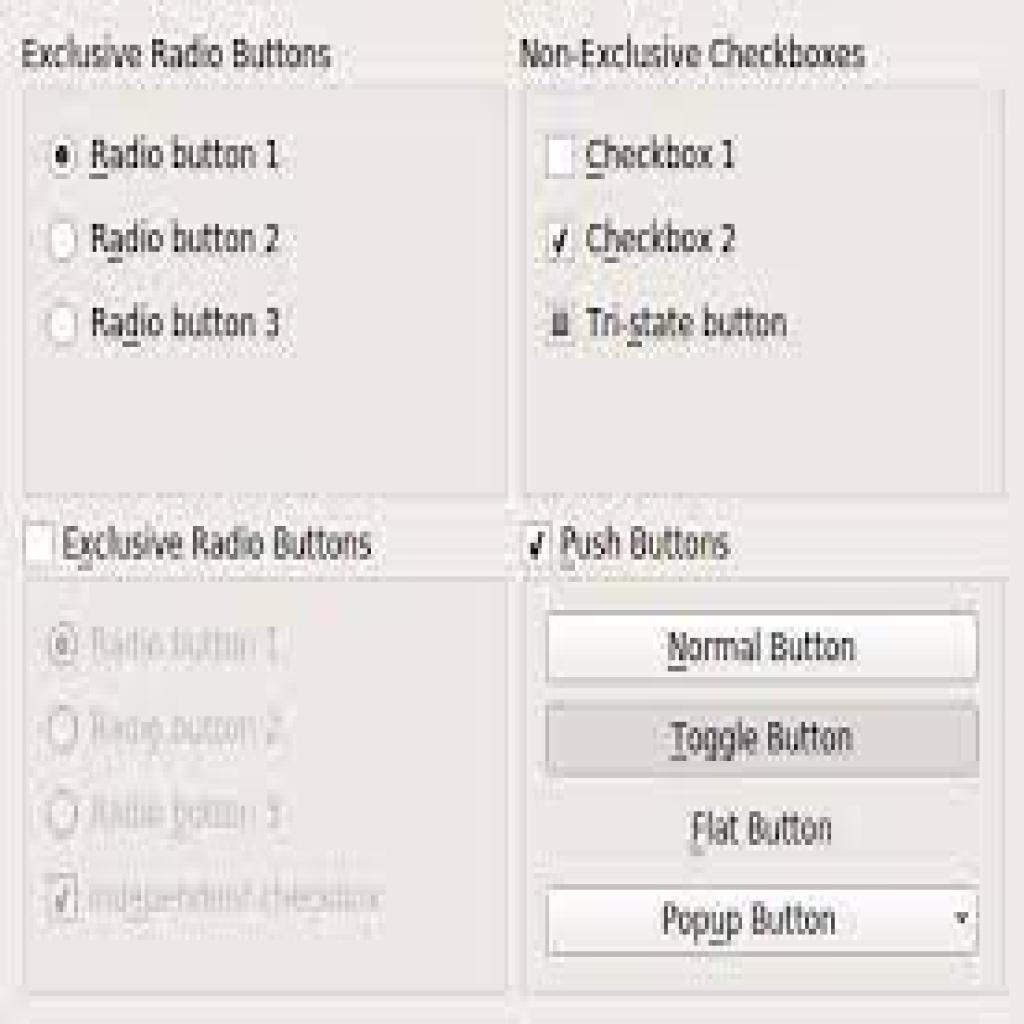button: (548, 705, 980, 777), (548, 614, 980, 685)
checkbox: (45, 872, 81, 922), (24, 522, 58, 571), (521, 522, 556, 567), (546, 133, 577, 181), (547, 301, 578, 346), (548, 224, 579, 268)
dropdown: (546, 887, 982, 958)
label: (61, 522, 378, 572), (91, 875, 381, 920), (582, 300, 791, 355), (90, 300, 300, 354), (92, 705, 291, 757), (92, 792, 290, 839), (88, 620, 286, 666), (90, 218, 291, 263), (91, 137, 289, 182), (587, 214, 748, 269), (584, 135, 743, 187), (561, 524, 740, 568), (687, 807, 840, 856)
radio: (44, 298, 84, 355), (43, 131, 81, 183), (45, 792, 83, 838), (48, 218, 81, 267), (44, 708, 80, 752), (45, 624, 79, 667)
